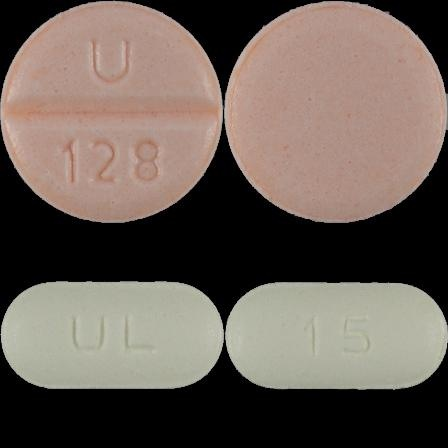58118-0123: (0, 0, 224, 224)
